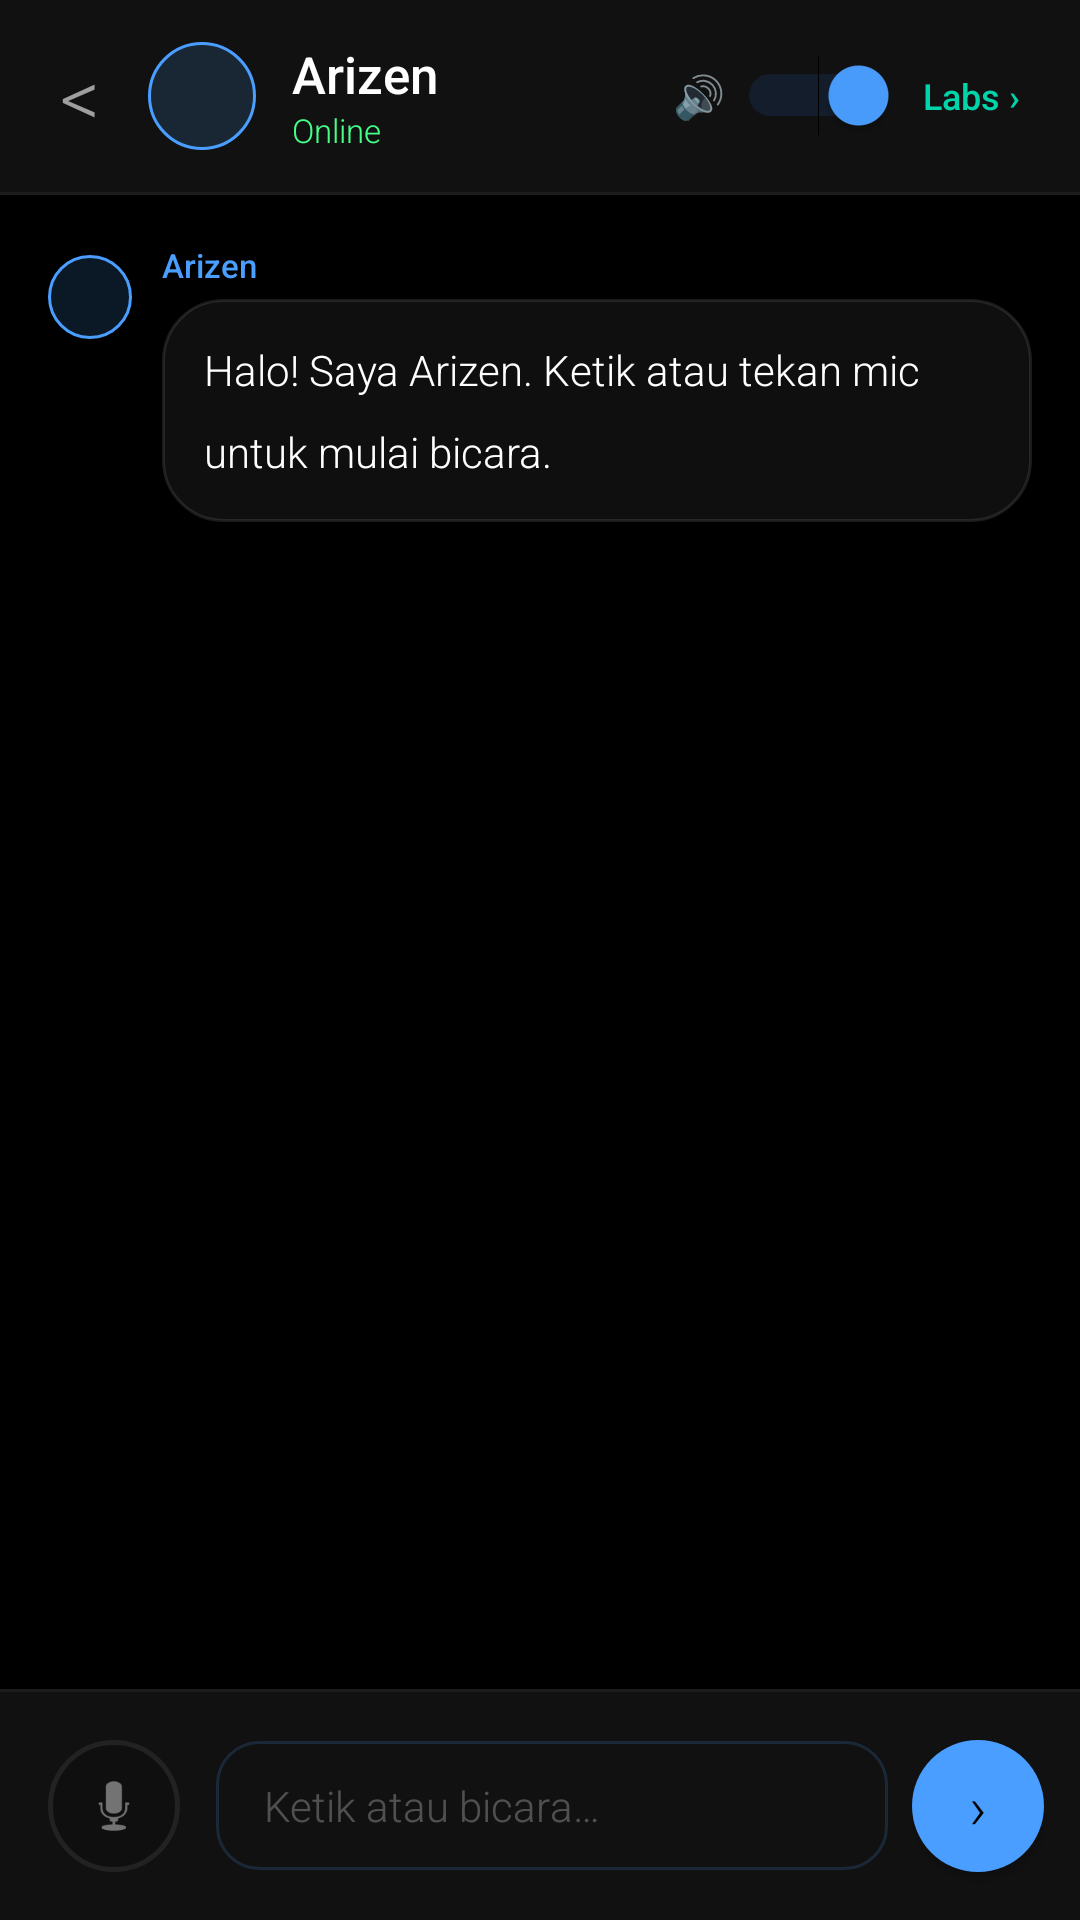

Locate icon controls on the screen. Image size 1080 x 1920, boxes as bbox=(x1, y1, x2, y2).
Voice input: bbox=(98, 1781, 129, 1831)
